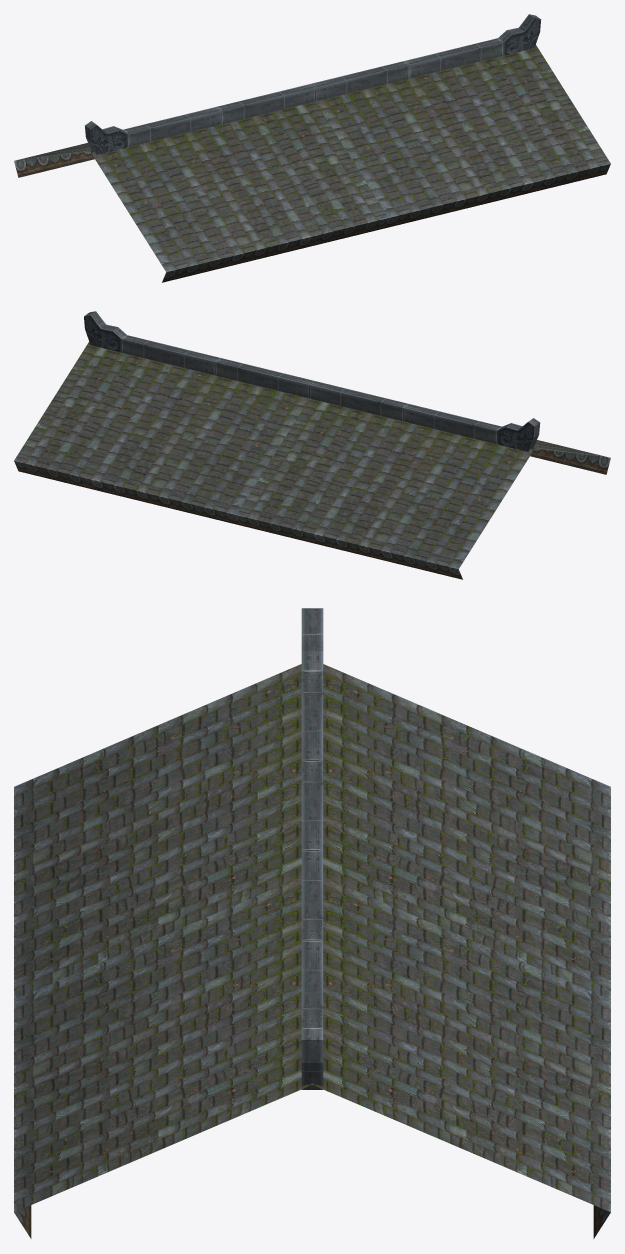
The picture shows the model from 3 angles, top to bottom: view 1: azimuth 30°, elevation 25°; view 2: azimuth 150°, elevation 25°; view 3: azimuth 270°, elevation 25°; orthographic projection. The views are drawn at different scales.
Visible parts, largest first — view 1: Box011, 图形002; view 2: Box011, 图形002; view 3: Box011, 图形002.
Boxes of the visible parts, x1,y1,x2,y2 form: Box011: (14,45,610,282); 图形002: (84,14,541,154); Box011: (14,342,610,579); 图形002: (84,311,540,451); Box011: (14,664,610,1238); 图形002: (301,608,323,1089).
Size of the model in its own units: 1306 by 295 by 763.
